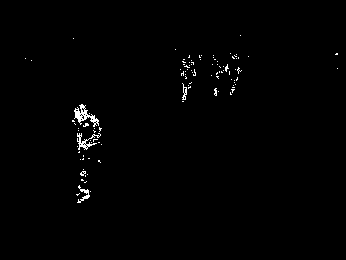person: (71, 101, 103, 205), (179, 53, 196, 103)
